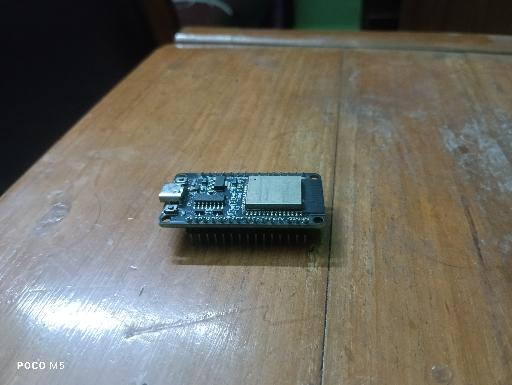Esp32: (158, 172, 326, 245)
